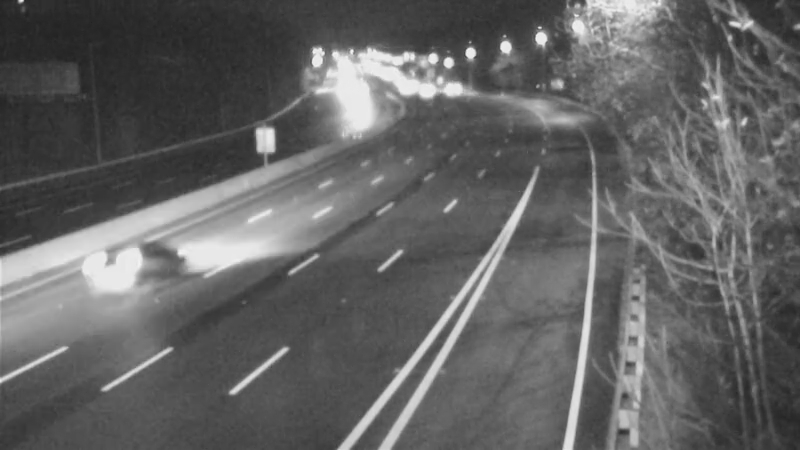vehicle: (75, 231, 155, 311), (394, 64, 444, 114), (425, 61, 475, 111)
